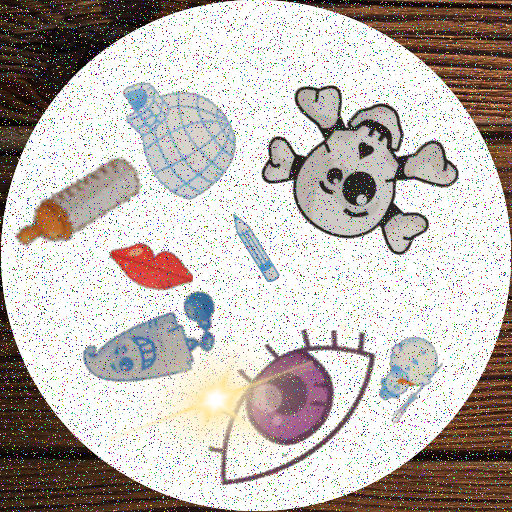bottle_icon: (7, 134, 148, 275)
eye_icon: (189, 306, 394, 511)
ghost_icon: (77, 268, 227, 418)
igloo_icon: (104, 65, 241, 202)
lips_icon: (106, 228, 193, 315)
pen_icon: (221, 214, 289, 282)
skull_icon: (243, 61, 460, 278)
snowman_icon: (366, 337, 453, 424)
